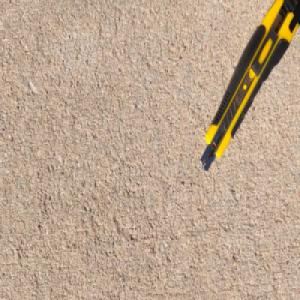Cutter: (196, 0, 298, 172)
